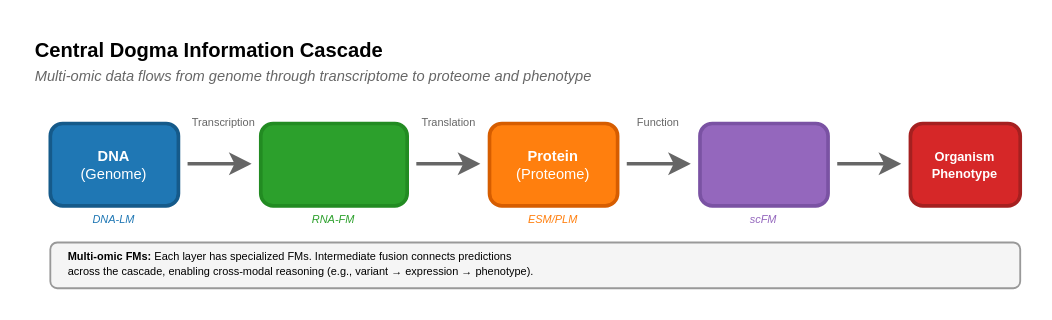
The diagram is 1052 pixels wide and 320 high, and some of its shapes have lost their labels. The centre of each missing label's shape, as x and y in pixels:
"Cell State (Phenome)" belongs at point 763,164.
"RNA (Transcriptome)" belongs at point 333,164.
